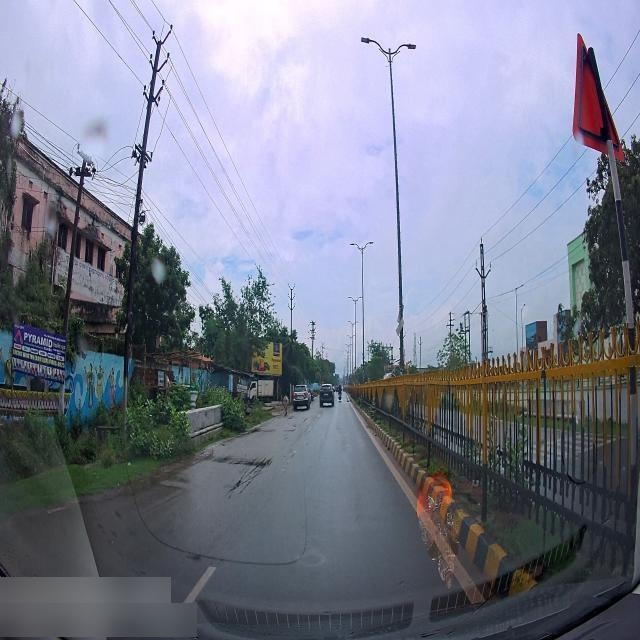pothole: (234, 456, 274, 472)
